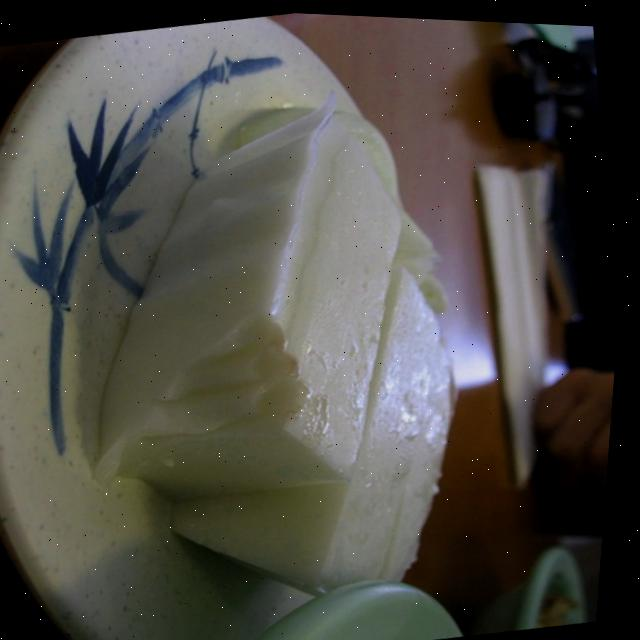蛋糕甜品: (0, 17, 556, 640)
